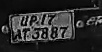1: (39, 12, 48, 26)
3: (31, 27, 42, 40)
7: (59, 25, 69, 39), (47, 13, 55, 26)
8: (49, 25, 58, 40), (40, 27, 50, 40)
A: (14, 29, 22, 41)
P: (29, 15, 36, 27)
T: (22, 27, 30, 39)
U: (18, 15, 29, 27)
